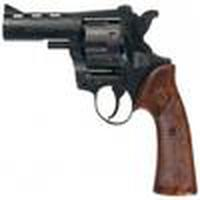gun: (3, 3, 195, 200)
